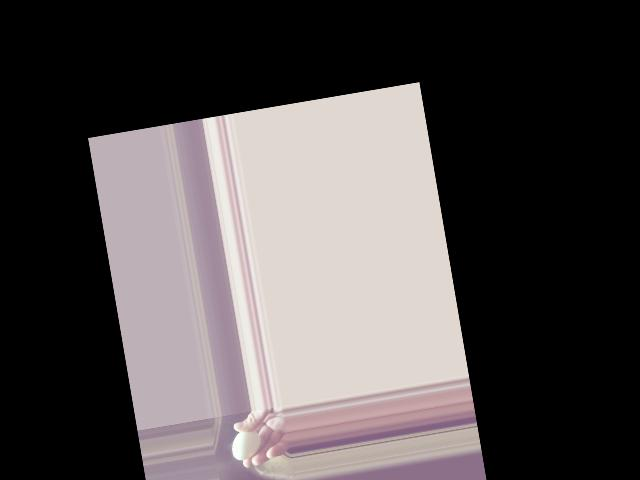egg: (229, 428, 263, 460)
